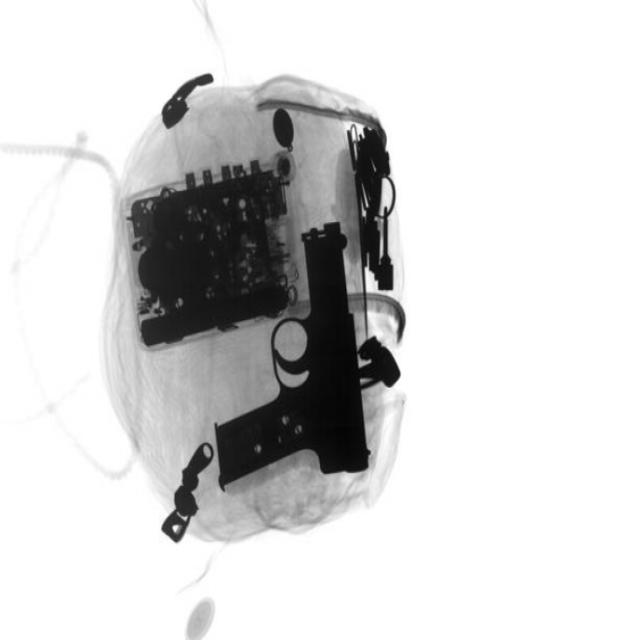GUN: (212, 228, 381, 485)
